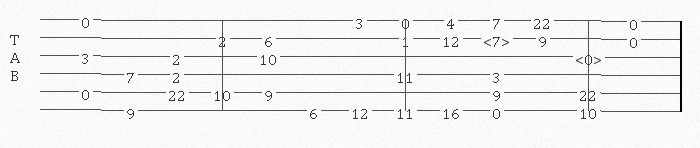0: (81, 85, 94, 99), (81, 13, 94, 27), (401, 13, 414, 27), (492, 103, 505, 117), (629, 13, 642, 27), (629, 31, 642, 45)
1: (401, 31, 414, 45)
10: (213, 85, 235, 99), (259, 49, 281, 63), (579, 103, 601, 117)
11: (396, 67, 418, 81), (396, 103, 418, 117)
12: (351, 103, 373, 117), (442, 31, 464, 45)
16: (442, 103, 464, 117)
2: (172, 67, 185, 81), (172, 49, 185, 63), (218, 31, 231, 45)
22: (168, 85, 190, 99), (533, 13, 555, 27), (579, 85, 601, 99)
3: (81, 49, 94, 63), (355, 13, 368, 27), (492, 67, 505, 81)
4: (446, 13, 459, 27)
6: (264, 31, 277, 45), (309, 103, 322, 117)
7: (126, 67, 139, 81), (492, 13, 505, 27)
9: (126, 103, 139, 117), (264, 85, 277, 99), (492, 85, 505, 99), (538, 31, 551, 45)
harmonic: (483, 31, 514, 45), (575, 49, 606, 63)
